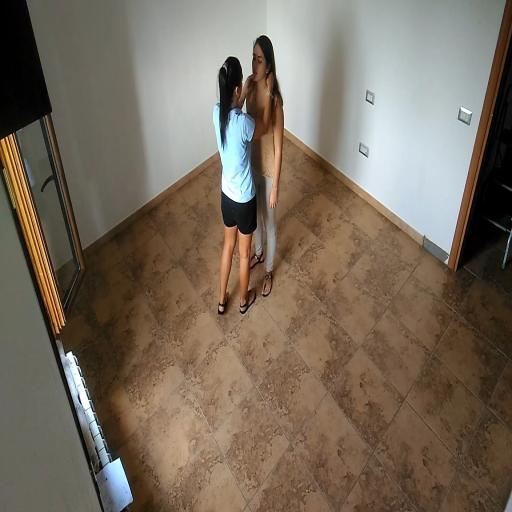nao-violencia: (198, 30, 292, 322)
